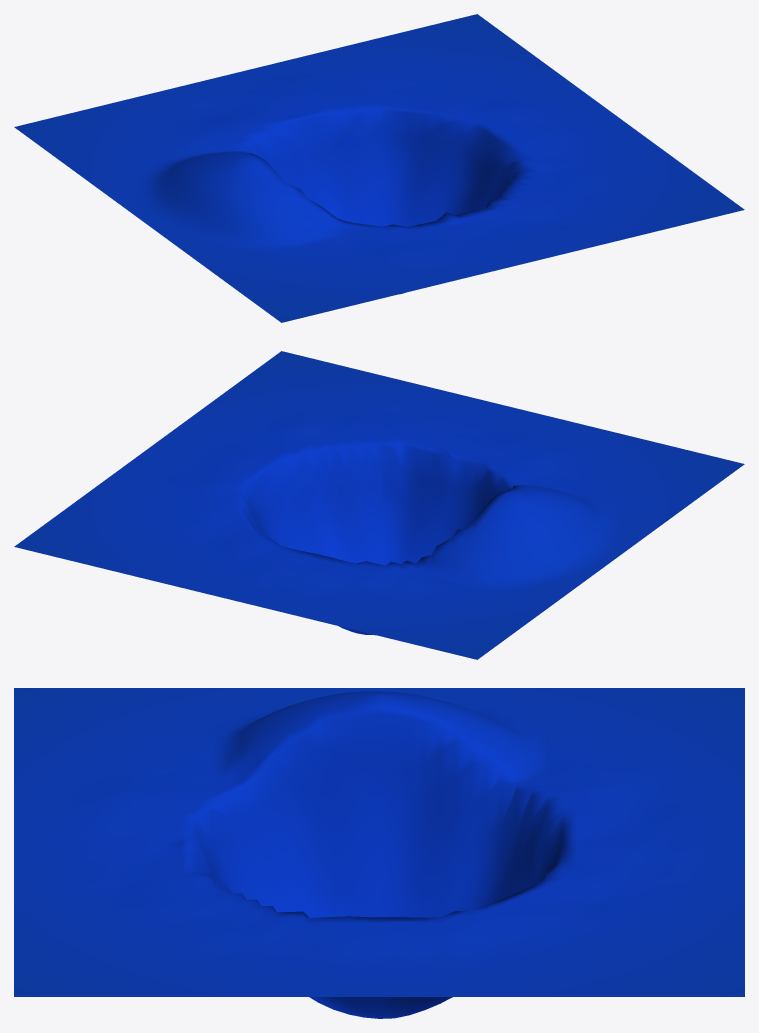
Rendered from lamp_hole_open.glb.
3 views of the same model, one above another, from view 1: azimuth 30°, elevation 25°; view 2: azimuth 150°, elevation 25°; view 3: azimuth 270°, elevation 25° (orthographic). The views are drawn at different scales.
Parts seen in each view (by area): view 1: lamp_hole_open; view 2: lamp_hole_open; view 3: lamp_hole_open.
Part boxes in pixels (left/top/right/bottom): lamp_hole_open: left=14, top=14, right=744, bottom=322; lamp_hole_open: left=14, top=351, right=744, bottom=659; lamp_hole_open: left=14, top=688, right=744, bottom=1018.
Size of what is drawn, in the model's own units: 1.2 by 0.3995 by 1.2.
